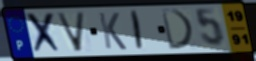5: (193, 7, 228, 50)
D: (159, 9, 197, 52)
I: (130, 9, 145, 52)
K: (96, 12, 129, 52)
V: (54, 11, 87, 53)
X: (24, 11, 64, 55)
